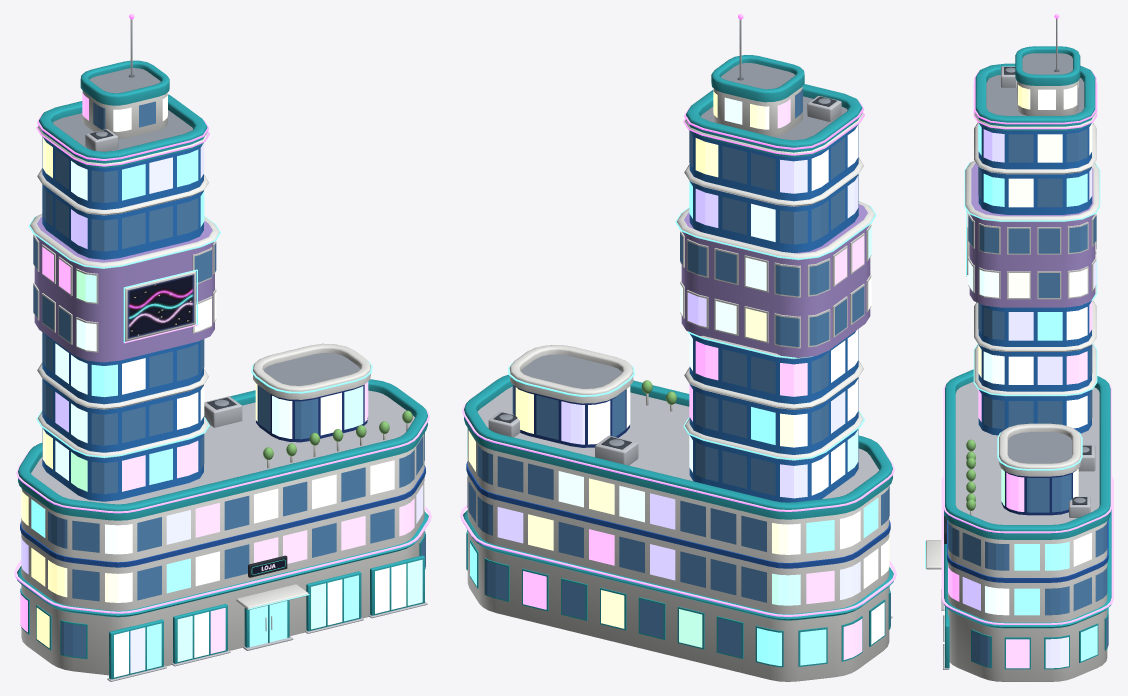
File: torre_podio_chanfrado.glb
3 views of the same model, side by side, from view 1: azimuth 30°, elevation 25°; view 2: azimuth 150°, elevation 25°; view 3: azimuth 270°, elevation 25° (orthographic). The views are drawn at different scales.
Visible parts, largest first — view 1: torre_podio_chanfrado; view 2: torre_podio_chanfrado; view 3: torre_podio_chanfrado.
Part boxes in pixels (x1,y1,x2,y2): torre_podio_chanfrado: [14, 14, 431, 681]; torre_podio_chanfrado: [460, 14, 896, 681]; torre_podio_chanfrado: [925, 14, 1113, 681].
Bounding box in the file's own units: 26.24 × 39.8 × 12.32.
Materials: 14 (3 with a texture image).
